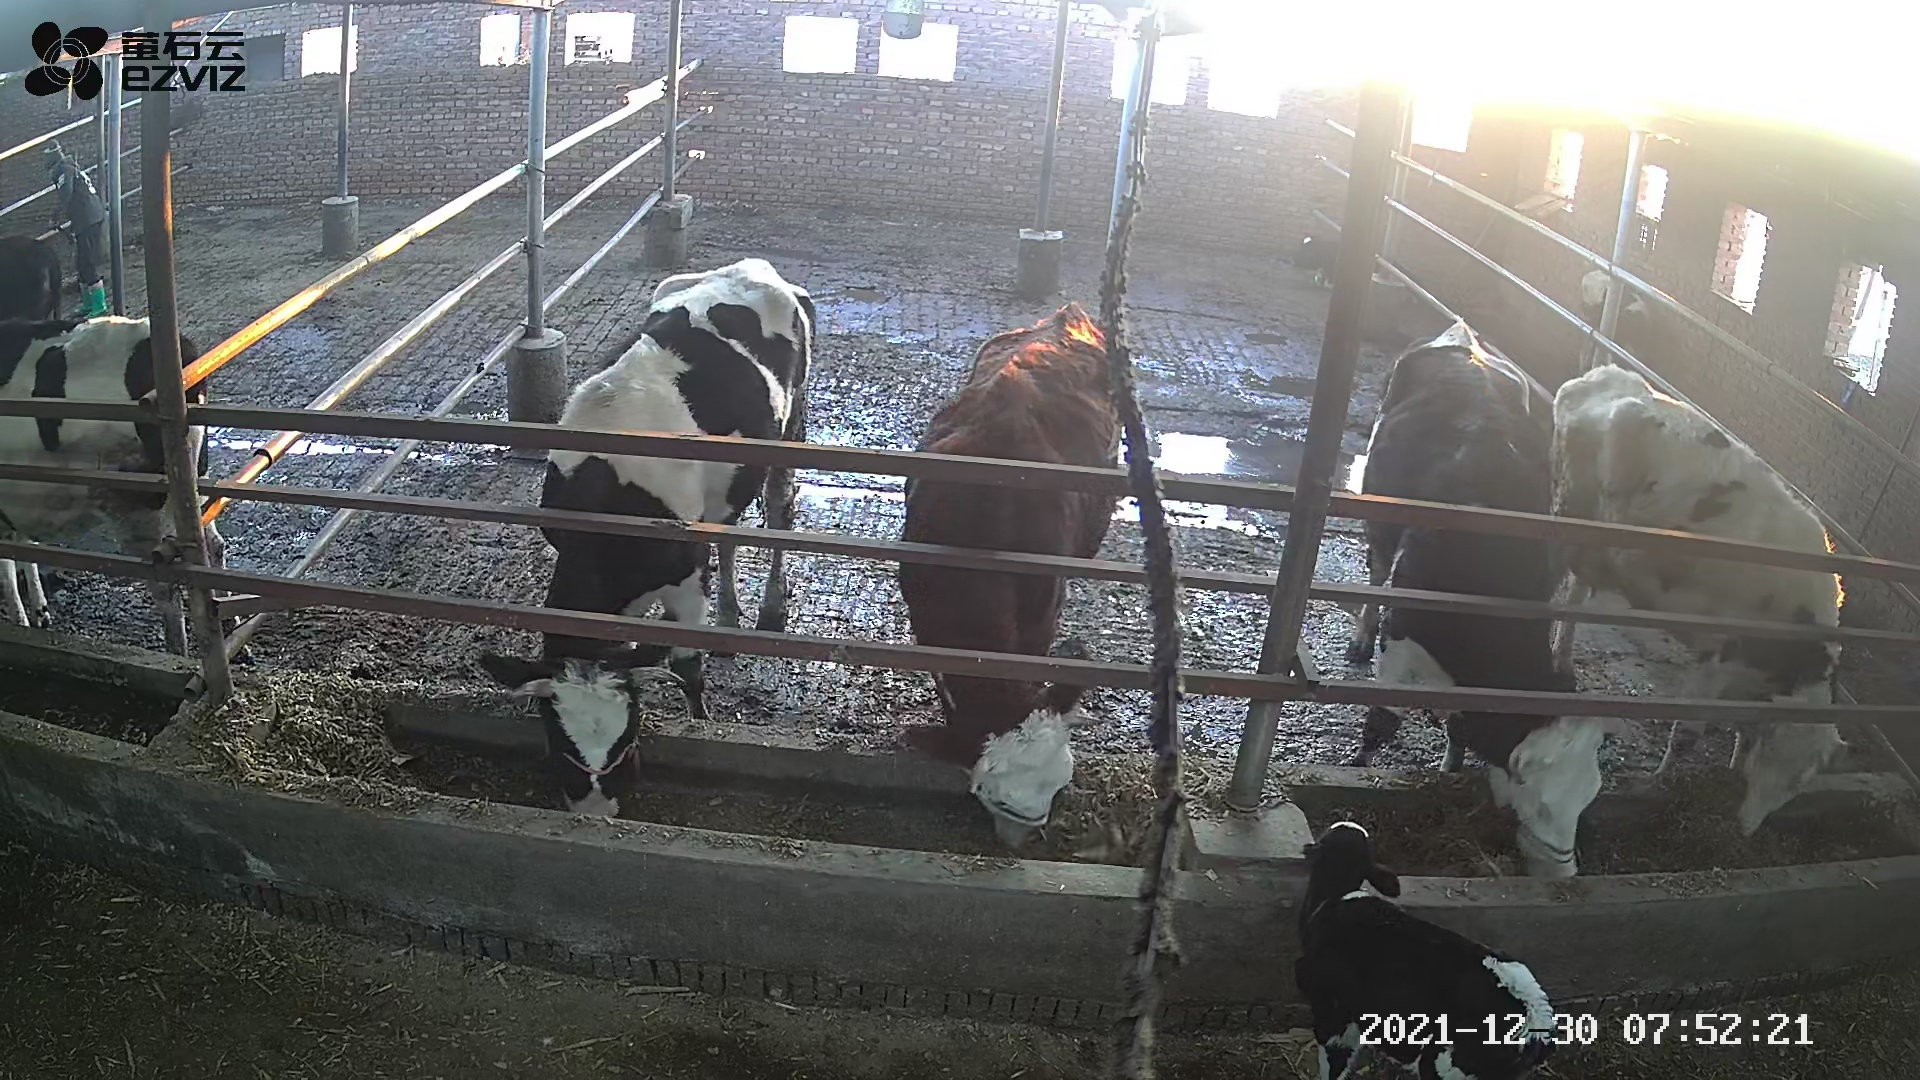cow: (476, 257, 816, 818), (1342, 316, 1634, 880), (1549, 363, 1849, 841), (899, 298, 1122, 848)
